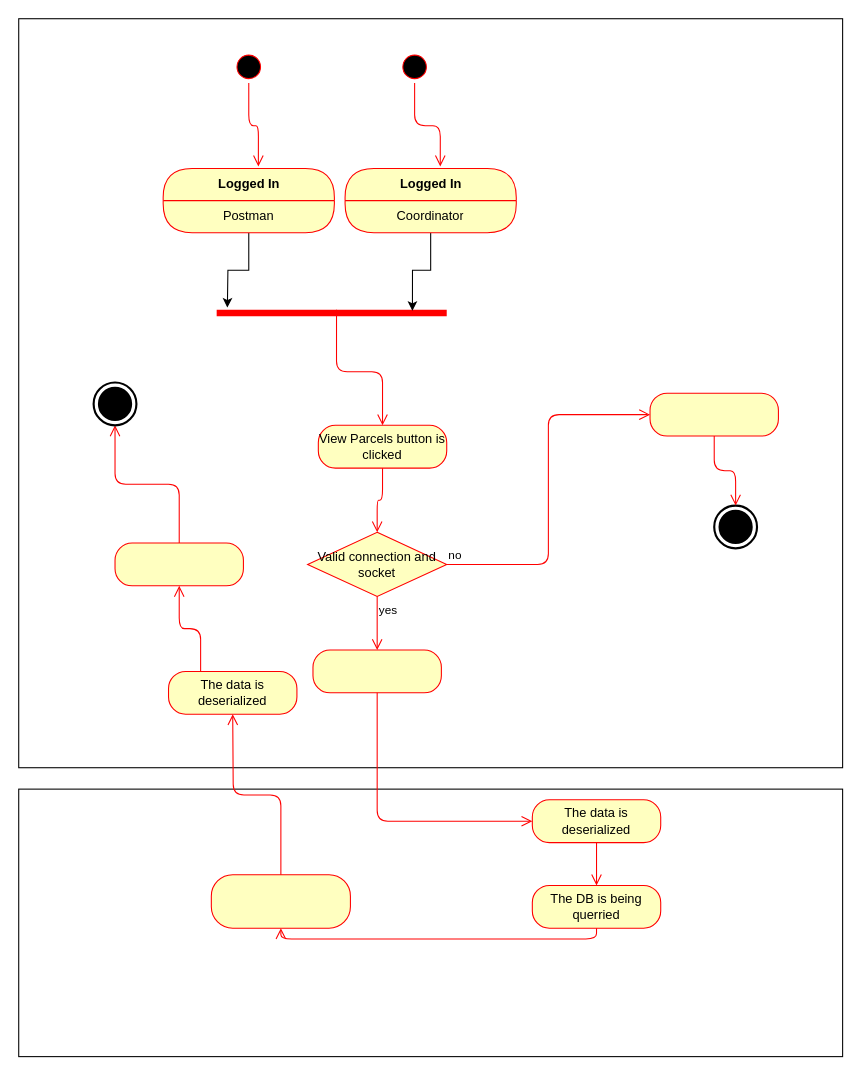
The diagram is 861 pixels wide and 1075 high, and some of its shapes have lost their labels. Here are the shapes that lost their labels. From the top down, the centre of each, then its label:
point (713, 414): Display 'Failed Connection' message
point (178, 564): The main table is updated
point (376, 671): Send request through the socket
point (280, 901): The graph is serialized and sent through the socket to the client
